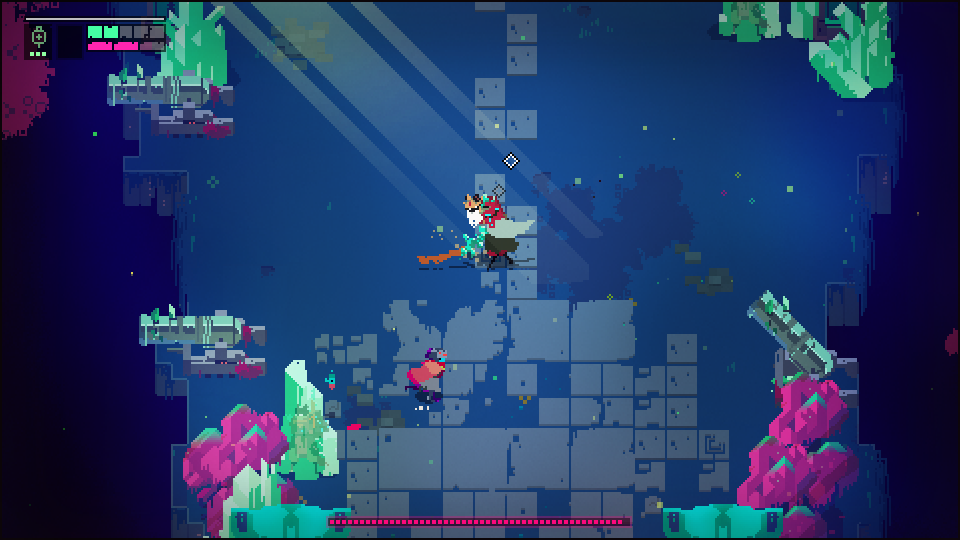hanged_man: (450, 194, 535, 265)
player: (406, 346, 445, 406)
